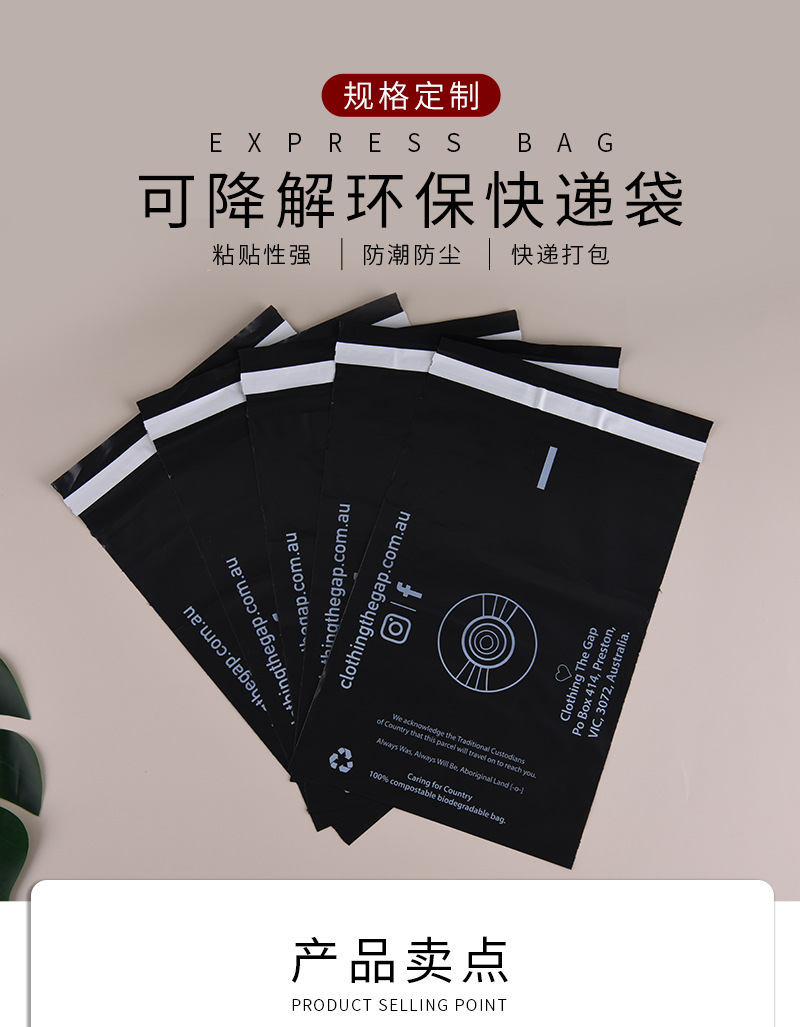塑料袋: (0, 195, 726, 910)
